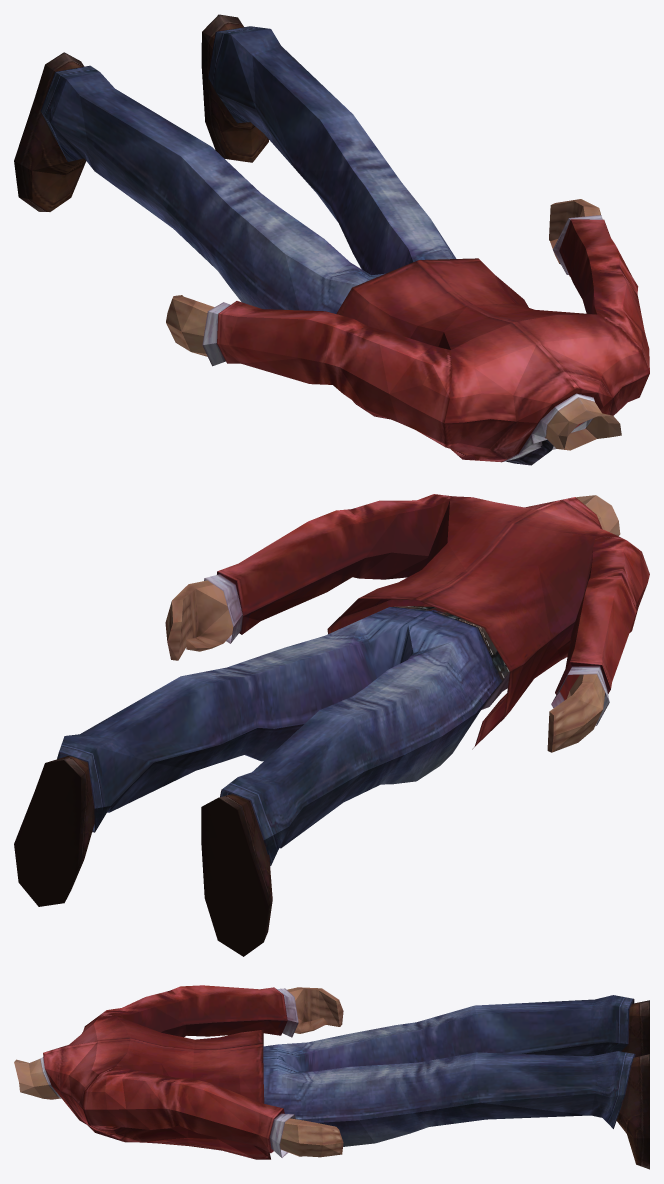
The model's file is common_dress_male_85210.obj.
3 renders of one model, top to bottom at view 1: azimuth 30°, elevation 25°; view 2: azimuth 150°, elevation 25°; view 3: azimuth 270°, elevation 25°, orthographic. The views are drawn at different scales.
Parts seen in each view (by area): view 1: common_dress_male_85210; view 2: common_dress_male_85210; view 3: common_dress_male_85210.
Part boxes in pixels (left/top/right/bottom): common_dress_male_85210: left=14, top=14, right=649, bottom=465; common_dress_male_85210: left=14, top=494, right=649, bottom=956; common_dress_male_85210: left=14, top=985, right=649, bottom=1169.
Size of the model in its own units: 44.28 by 16.53 by 82.64.
Materials: 1 (1 with a texture image).
